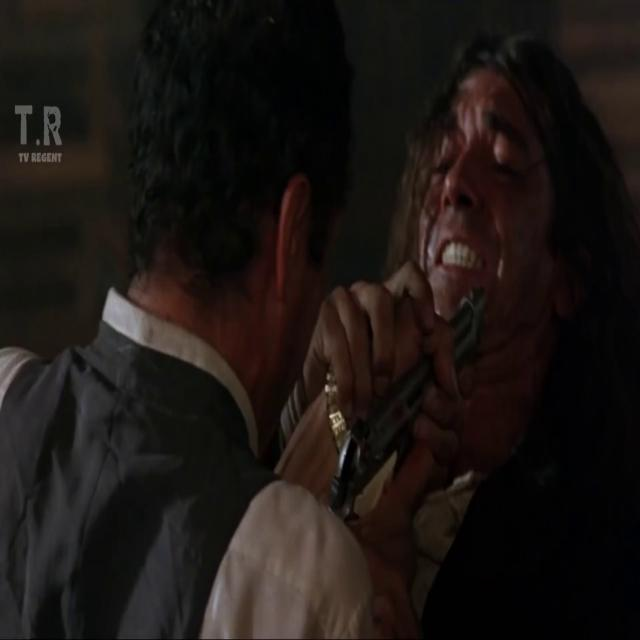handgun: (318, 269, 510, 555)
